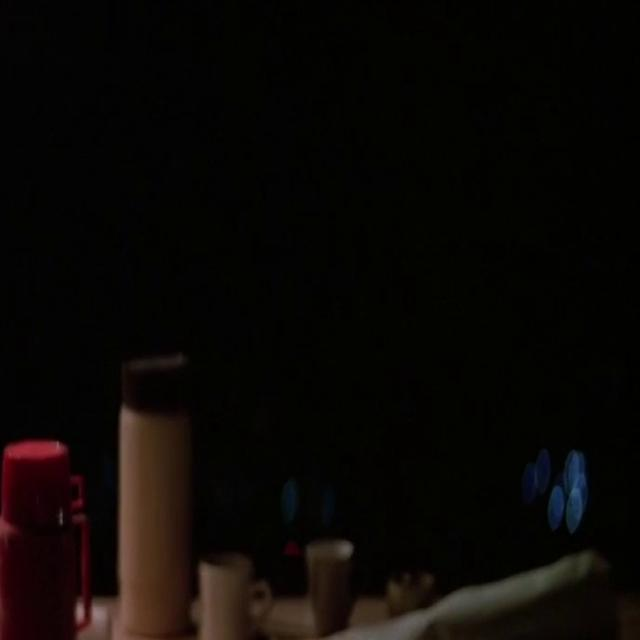Bottle: (111, 330, 194, 638), (0, 418, 108, 640)
Cup: (299, 536, 387, 640), (195, 530, 274, 640)
